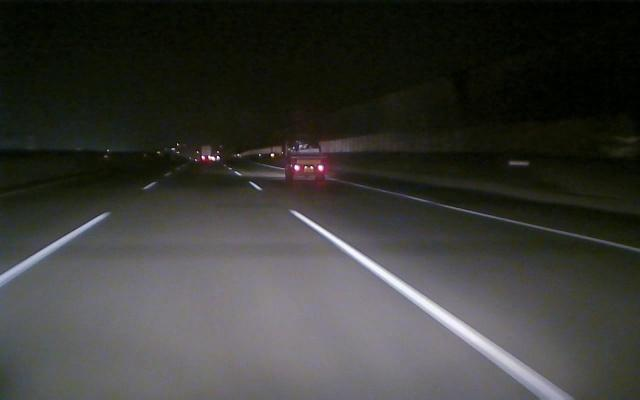lane: (284, 204, 575, 399), (380, 189, 640, 254), (1, 182, 156, 286)
